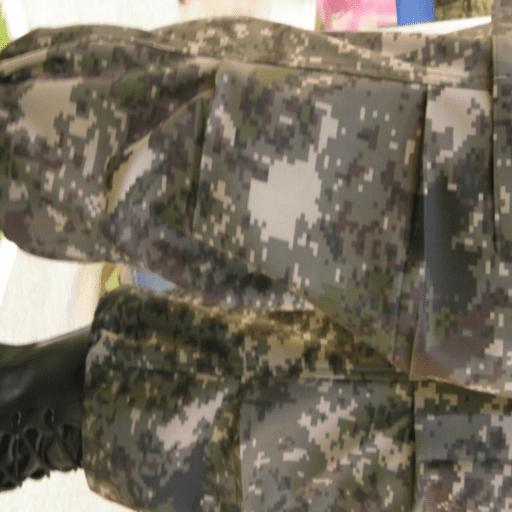korea army: (0, 3, 511, 510)
